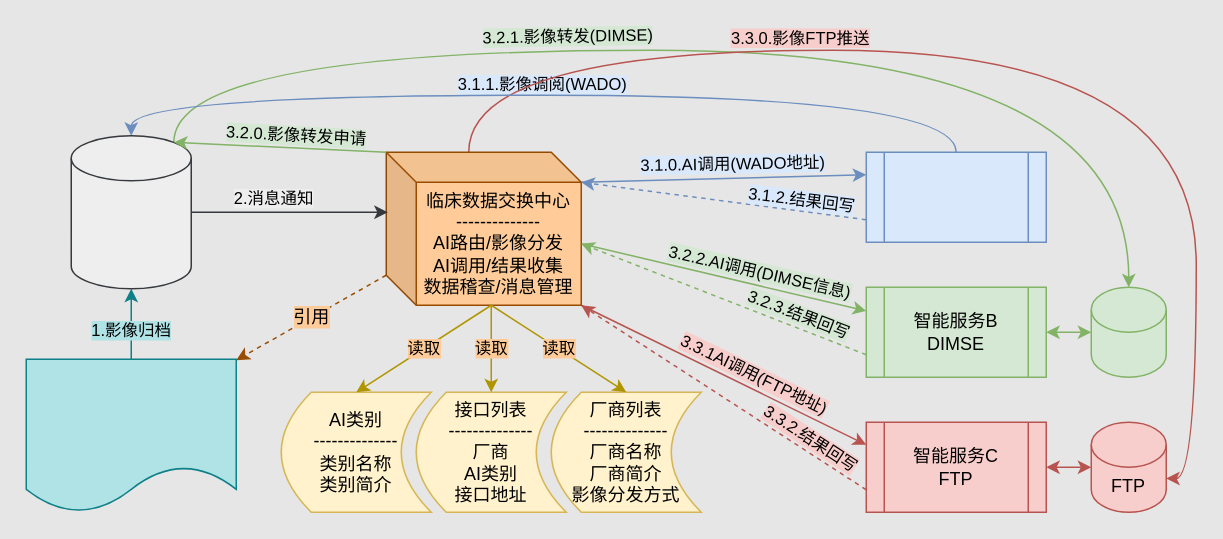
Image size: 1223x539. Some labels were removed from this diagram. Here are the shapes that lost their labels. From the top down, the centre of each, then its label:
(130,211): PACS/VNA -------------- 影像存储/调阅 数据平台
(955,196): 智能服务A WADO
(1128,331): AE
(130,435): 医疗影像 -------------- AE/模态 检查部位 院区/科室
